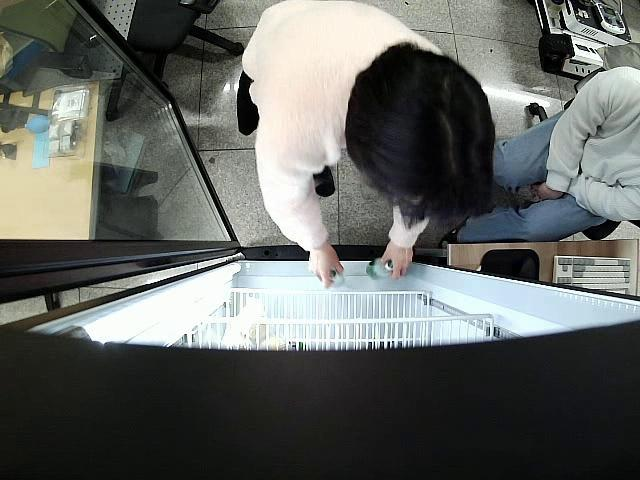18_trevi: (364, 254, 396, 283), (328, 267, 348, 290)
